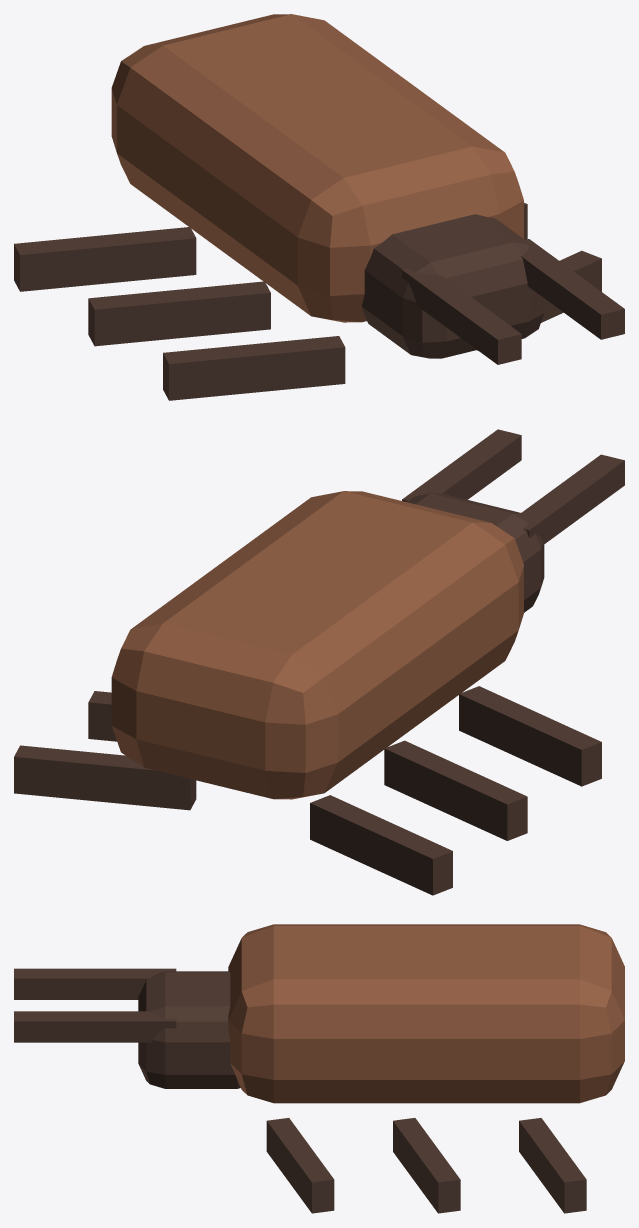
Rendered from prop_kecoa.fbx.
The picture shows the model from 3 angles, top to bottom: view 1: azimuth 30°, elevation 25°; view 2: azimuth 150°, elevation 25°; view 3: azimuth 270°, elevation 25°; orthographic projection. The views are drawn at different scales.
Visible parts, largest first — view 1: prop_kecoa; view 2: prop_kecoa; view 3: prop_kecoa.
Part boxes in pixels (bbox=[...]): prop_kecoa: bbox=[14, 14, 624, 400]; prop_kecoa: bbox=[14, 429, 624, 895]; prop_kecoa: bbox=[14, 924, 624, 1213].
Size of the model in its own units: 23.5 by 10.5 by 33.9.
1 material, 1 textured.
